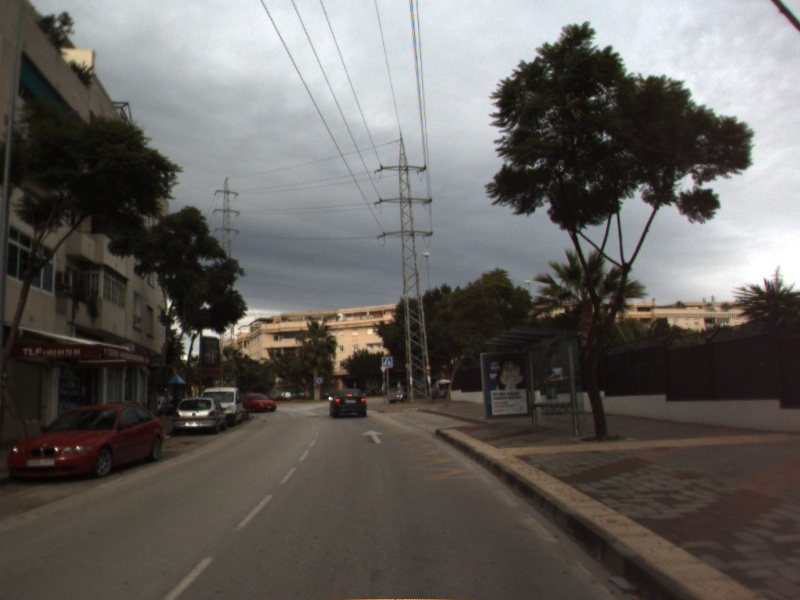STRAIGHT: (360, 427, 387, 445)
